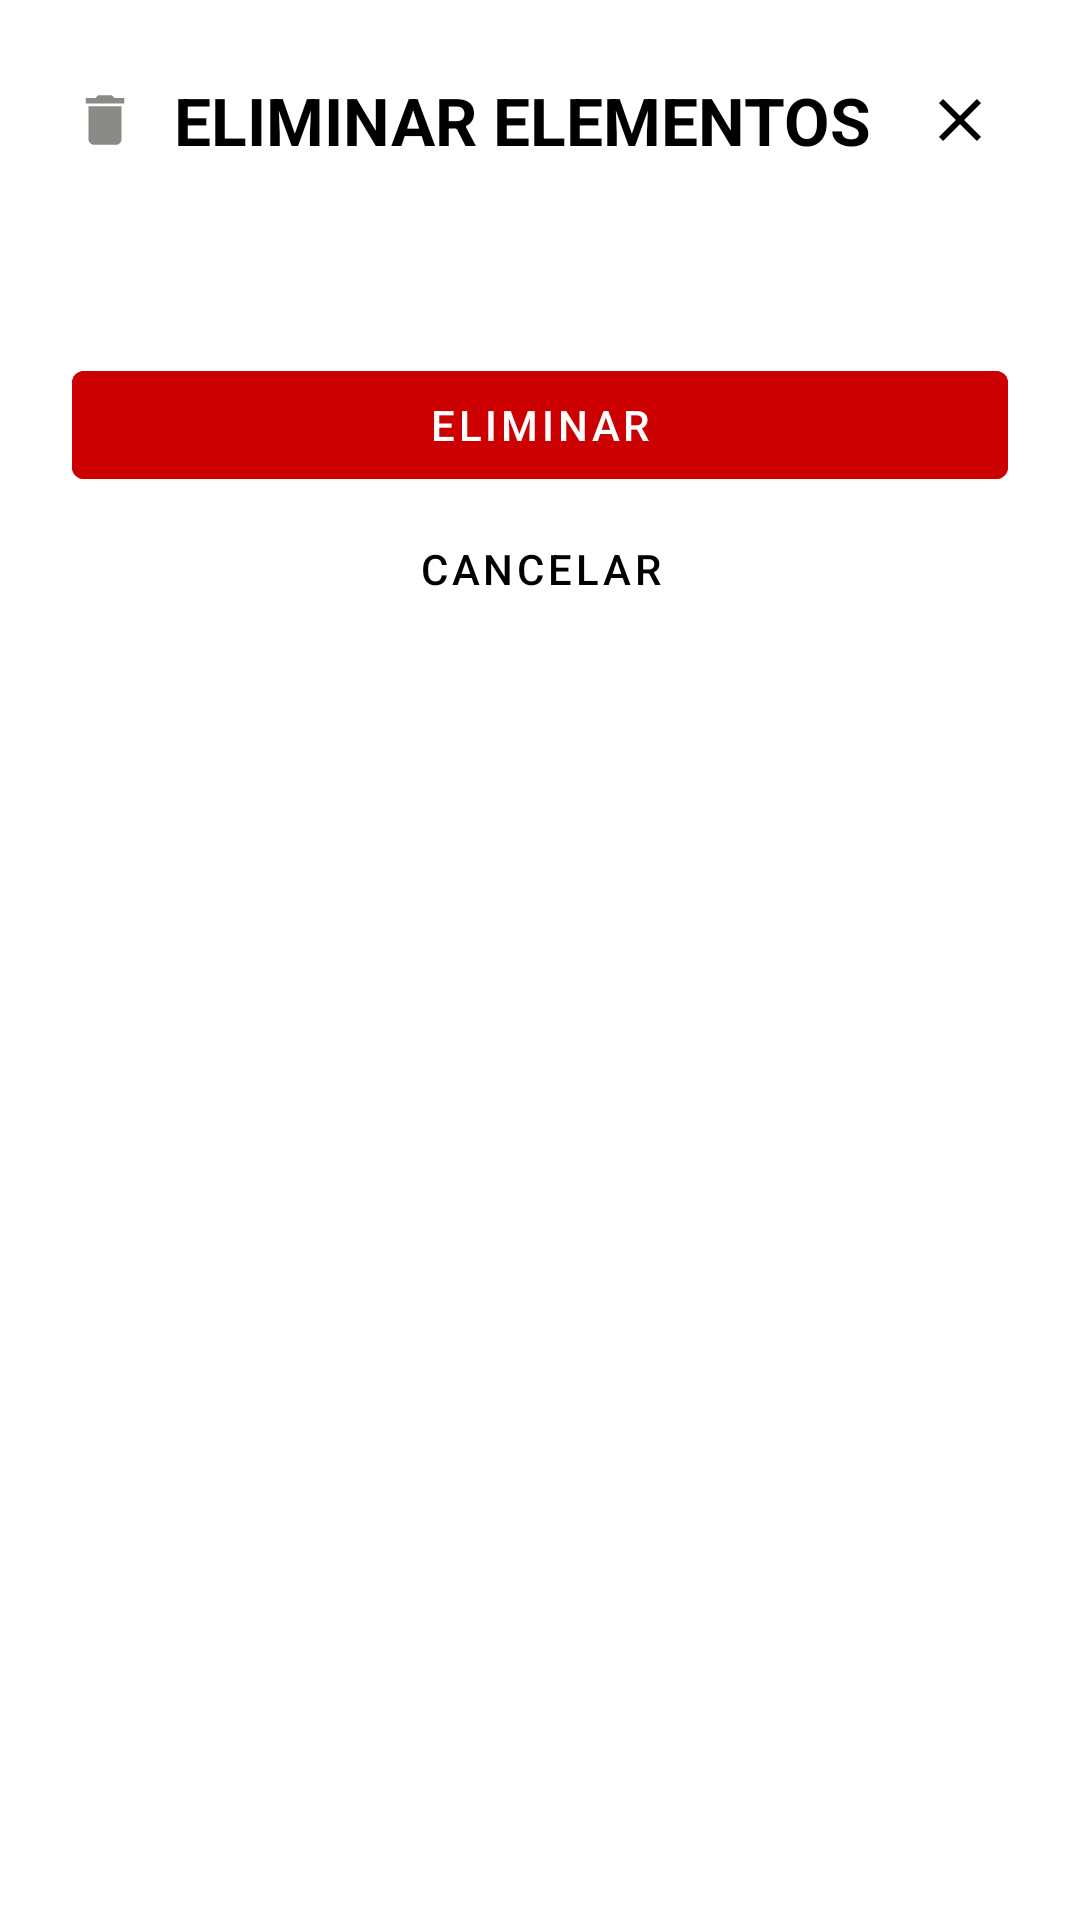

Icons on this 1080*1920 Android screen, each with the point to tap as [x,y]:
close: [960,120]
delete: [105,120]
